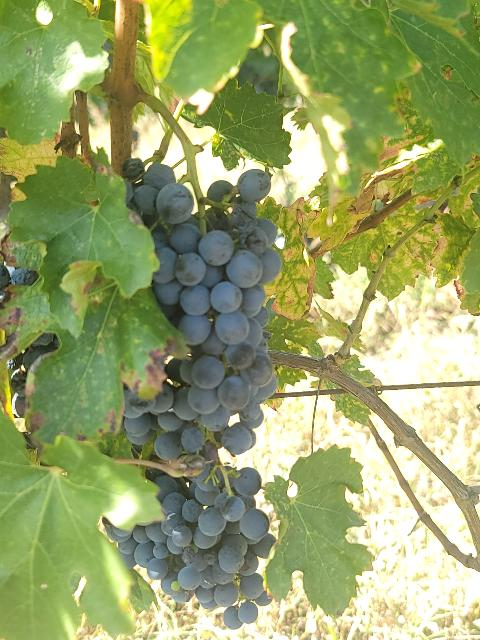grapes: (122, 159, 281, 454), (184, 469, 275, 629), (104, 499, 201, 601)
